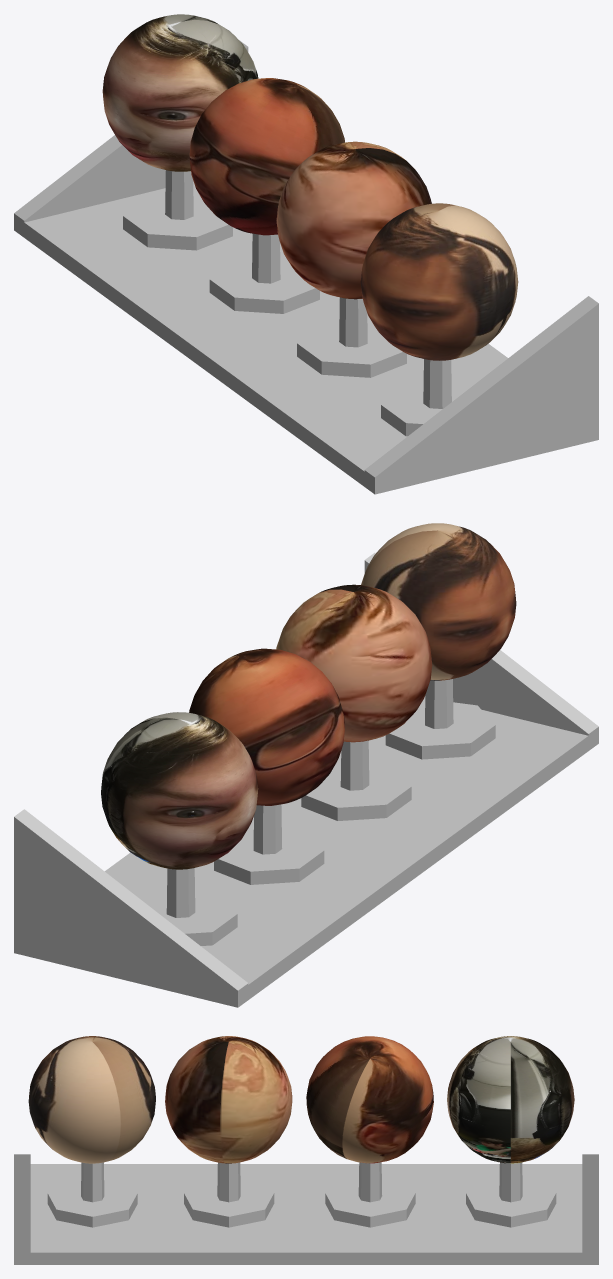
File: trophies.FBX
3 views of the same model, one above another, from view 1: azimuth 30°, elevation 25°; view 2: azimuth 150°, elevation 25°; view 3: azimuth 270°, elevation 25° (orthographic). The views are drawn at different scales.
Parts seen in each view (by area): view 1: Box001, Sphere004, Sphere002, Sphere001, Sphere003, Cylinder002, Cylinder001, Cylinder003, Cylinder004; view 2: Box001, Sphere001, Sphere003, Sphere002, Sphere004, Cylinder002, Cylinder003, Cylinder004, Cylinder001; view 3: Box001, Sphere001, Sphere003, Sphere004, Sphere002, Cylinder003, Cylinder001, Cylinder002, Cylinder004.
Part boxes in pixels (x1,y1,x2,y2): Box001: (14,40,598,494); Sphere004: (360,203,518,360); Sphere002: (189,78,344,235); Sphere001: (102,14,258,171); Sphere003: (276,141,431,299); Cylinder002: (209,233,319,313); Cylinder001: (123,170,232,250); Cylinder003: (297,297,406,377); Cylinder004: (381,359,471,436); Box001: (14,552,598,1007); Sphere001: (101,712,258,869); Sphere003: (276,584,432,742); Sphere002: (189,648,344,805); Sphere004: (361,523,516,680); Cylinder002: (214,804,324,884); Cylinder003: (301,740,411,820); Cylinder004: (385,679,495,759); Cylinder001: (139,868,237,945); Box001: (14,1154,598,1264); Sphere001: (447,1036,574,1163); Sphere003: (165,1036,292,1163); Sphere004: (28,1036,155,1163); Sphere002: (306,1036,433,1163); Cylinder003: (184,1162,274,1227); Cylinder001: (466,1162,556,1227); Cylinder002: (325,1162,415,1227); Cylinder004: (47,1162,137,1227).
Size of the model in its own units: 58.1 by 54.77 by 162.
